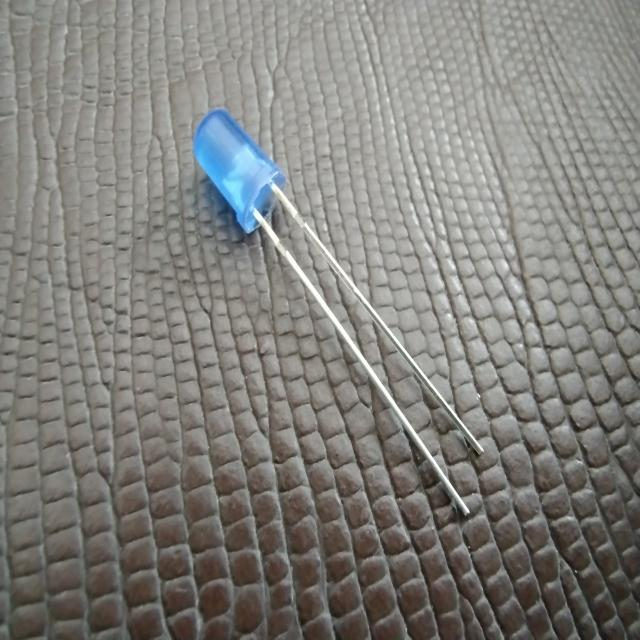blue_led: (192, 106, 286, 235)
